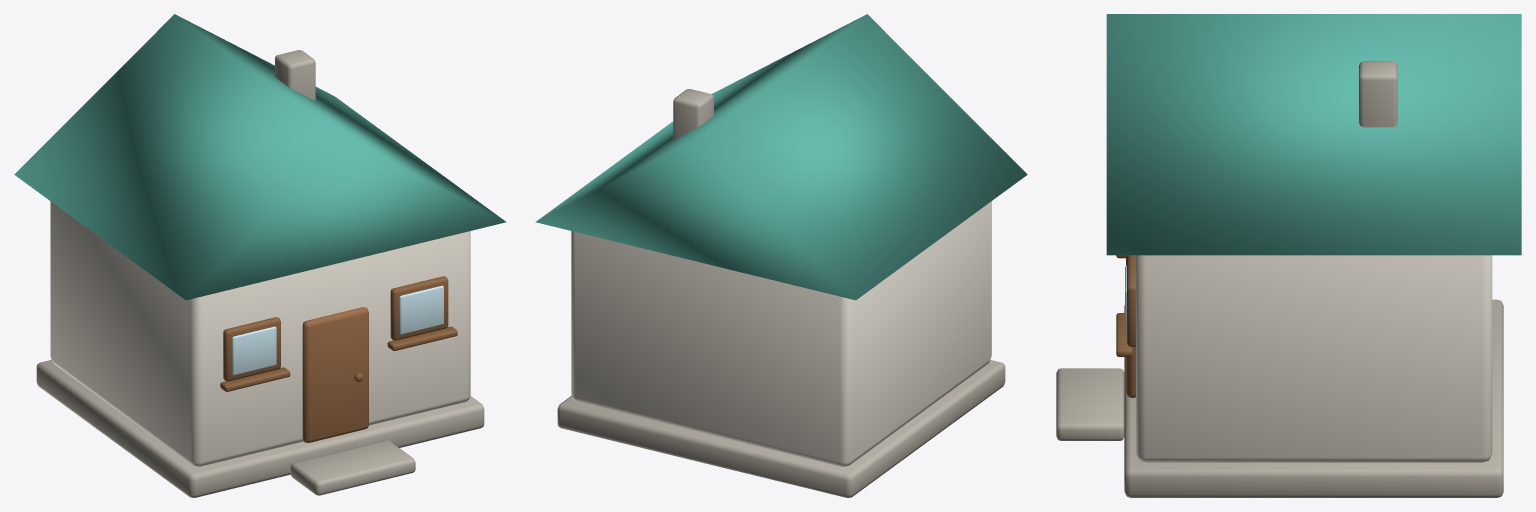
Rendered from house-player.glb.
3 views of the same model, side by side, from view 1: azimuth 30°, elevation 25°; view 2: azimuth 150°, elevation 25°; view 3: azimuth 270°, elevation 25° (orthographic). The views are drawn at different scales.
Visible parts, largest first — view 1: house; view 2: house; view 3: house.
Part boxes in pixels (bbox=[...]): house: bbox=[14, 14, 506, 497]; house: bbox=[535, 14, 1027, 497]; house: bbox=[1056, 14, 1521, 497].
Size of the model in its own units: 2.76 by 2.72 by 2.87.
